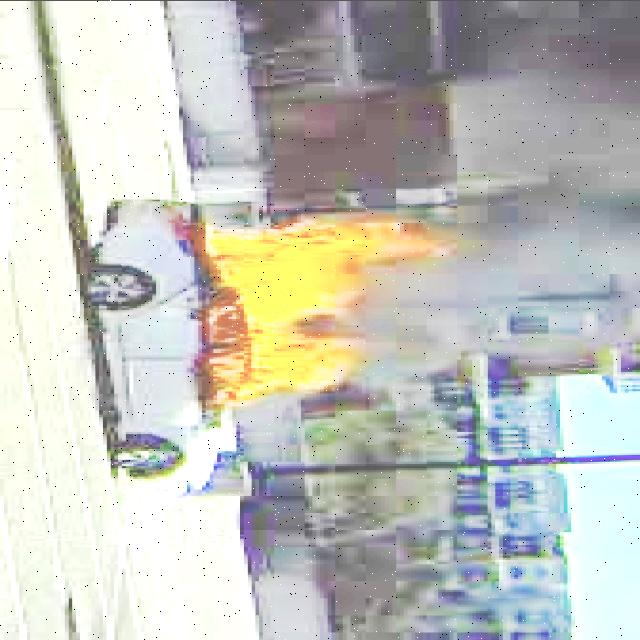api: (203, 213, 458, 415)
